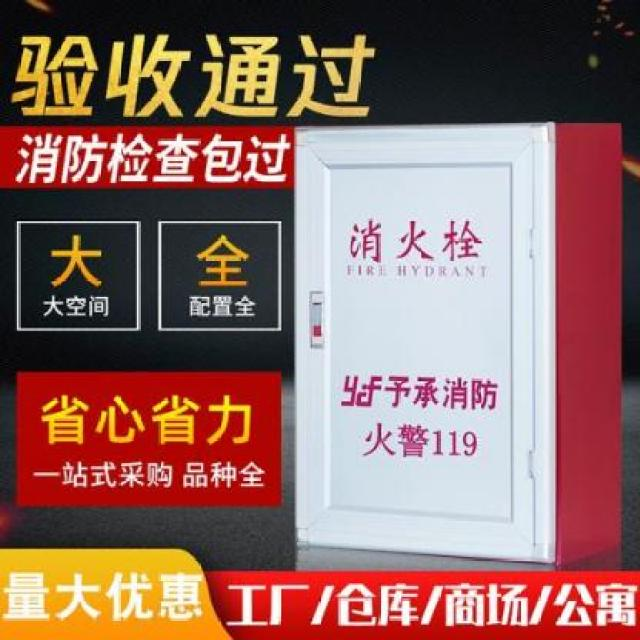firehydrant: (292, 116, 626, 570)
